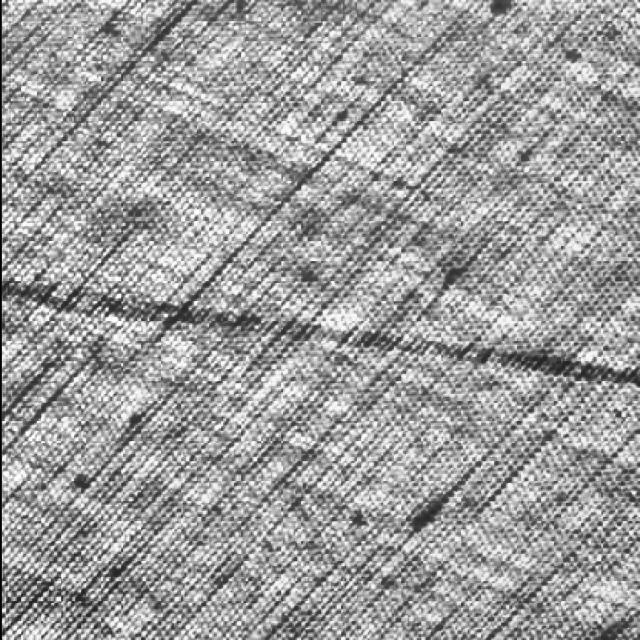oil_spot: (0, 254, 640, 396)
